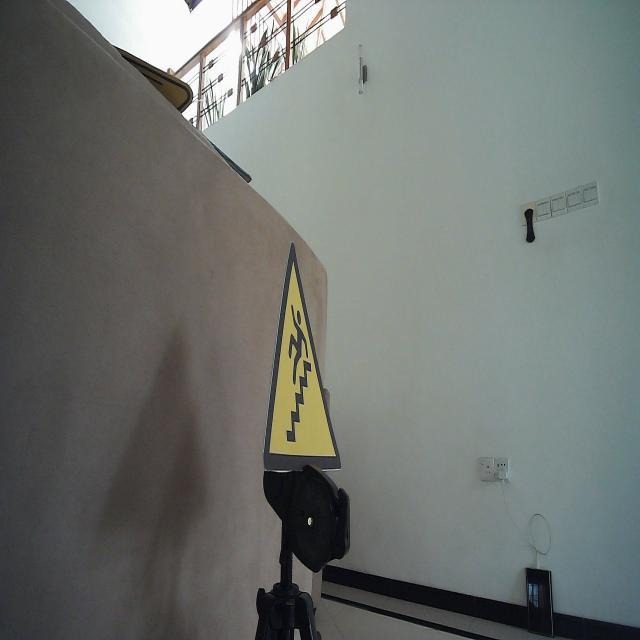stairs: (262, 236, 344, 473)
